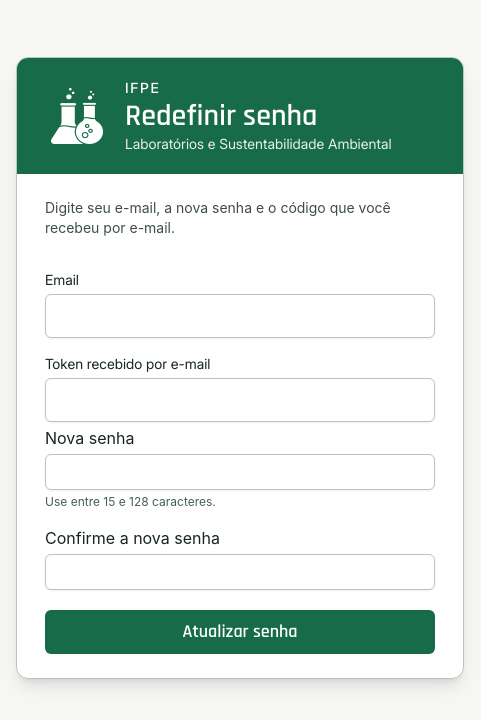
Test: ResetPassword › associa token inválido ao campo sem expor o código bruto
Type "usuario@example.org" into the field labelled "Email" at (240, 316), box [45,294,435,338]
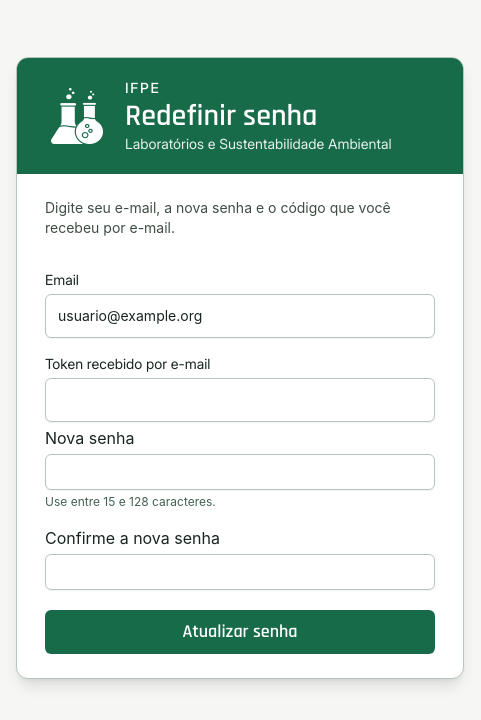
Type "codigo-seguro" into the field labelled "Token recebido por e-mail" at (240, 400), box [45,378,435,422]
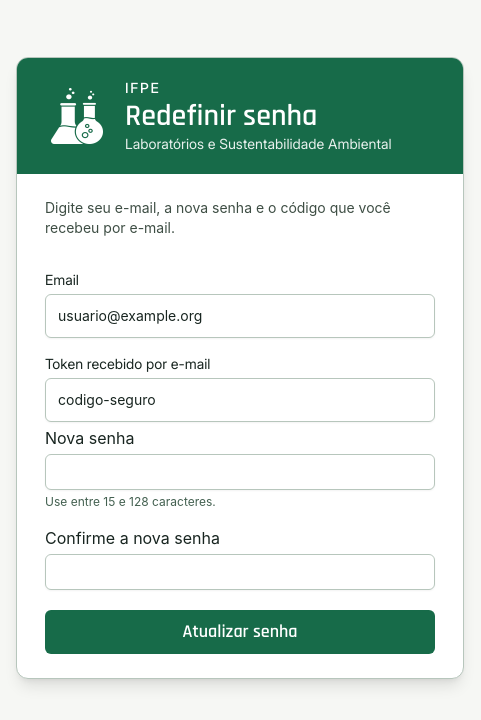
Type "nova-senha-valida" into the password field labelled "Nova senha" at (240, 472), box [45,454,435,490]
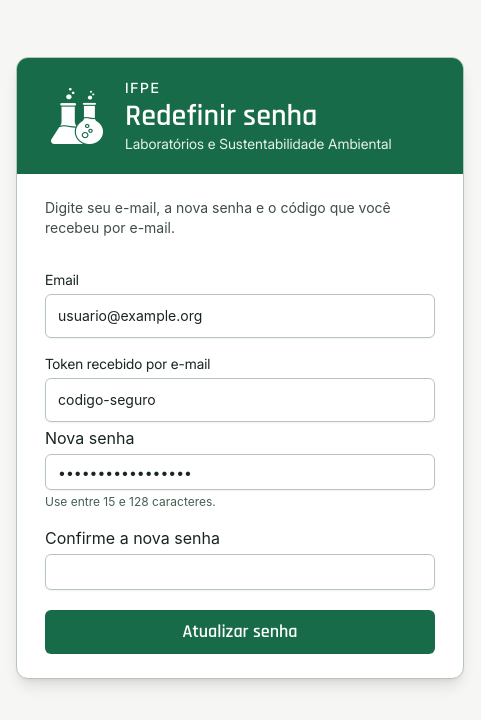
Type "nova-senha-valida" into the password field labelled "Confirme a nova senha" at (240, 572), box [45,554,435,590]
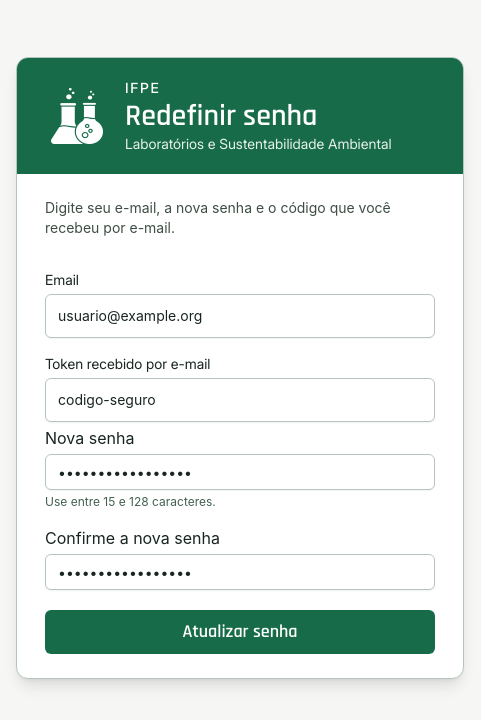
Click the button "Atualizar senha" at (240, 632), box [45,610,435,654]
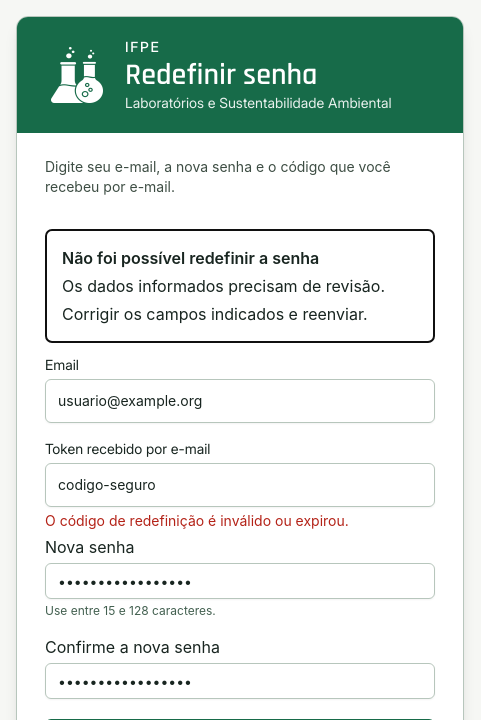
Check: the message named "N.o foi poss.vel redefinir a senha" does not show "SENTINELA_TOKEN_SENHA_STACK", box [45,229,435,343]
Check: the text "O código de redefinição é inválido ou expirou." is shown, box [45,512,349,529]
